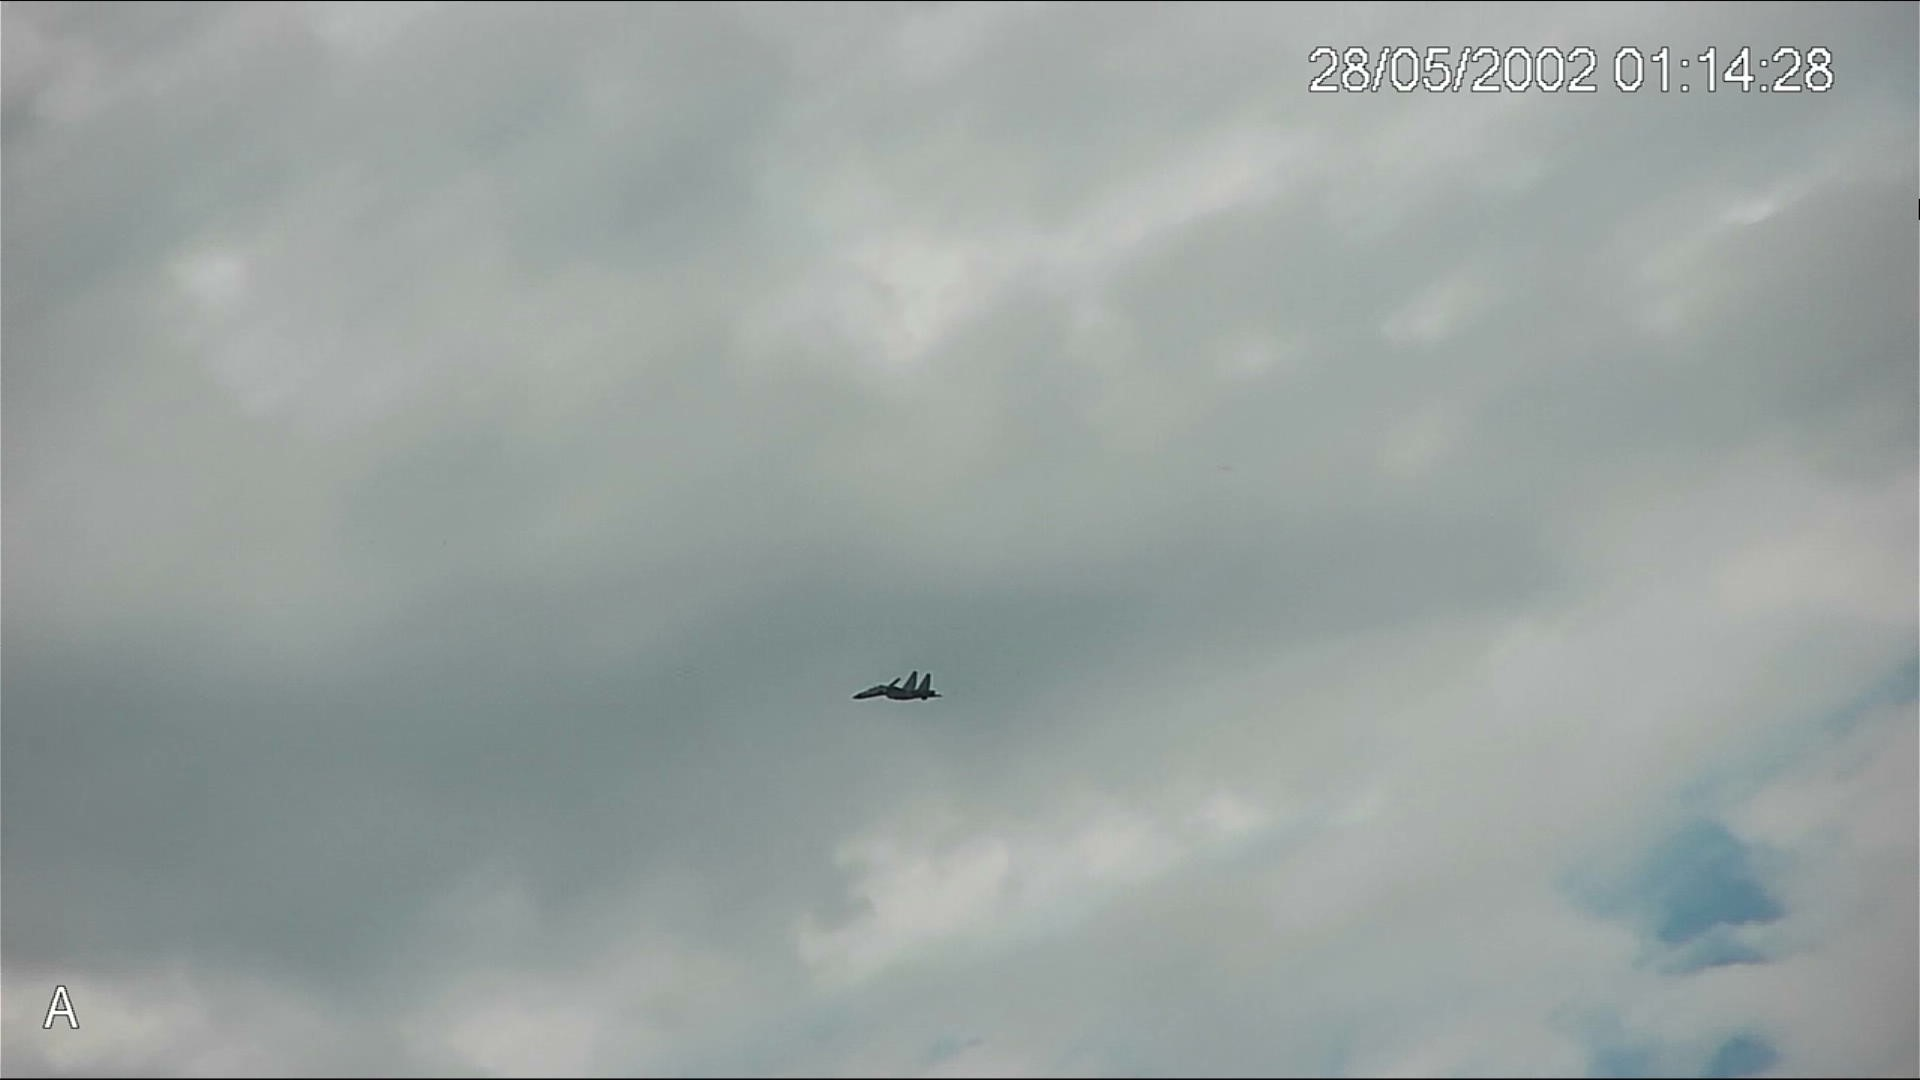SU_30: (851, 667, 947, 707)
